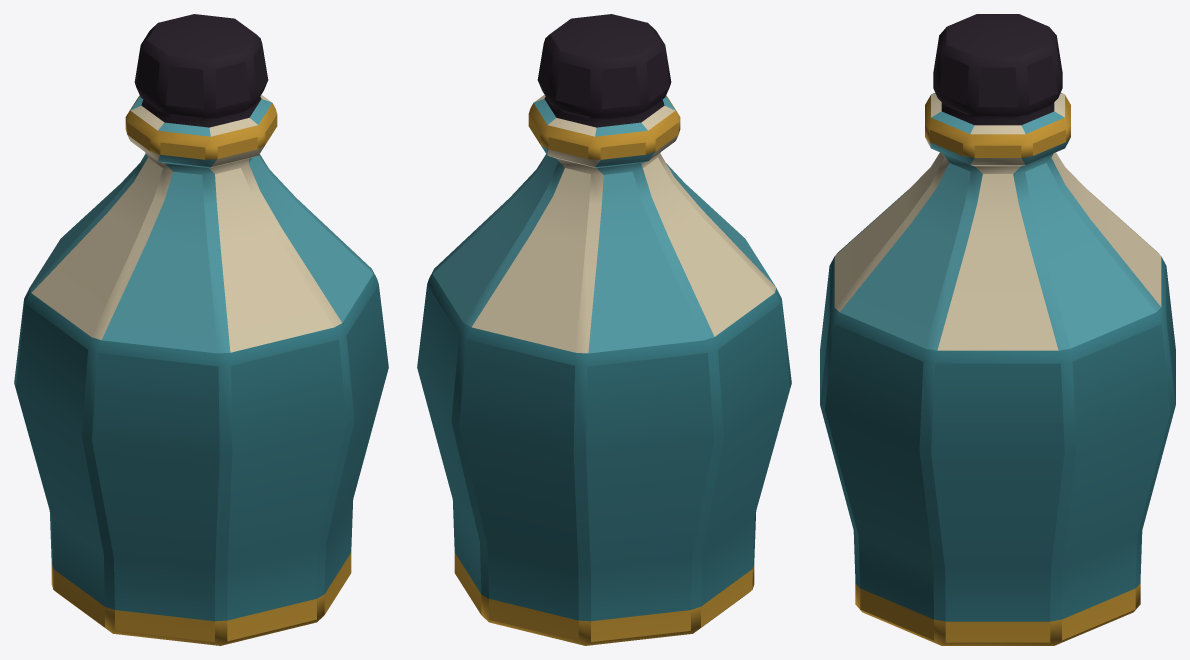
The model's file is Bottle_19.glb.
3 renders of one model, left to right at view 1: azimuth 30°, elevation 25°; view 2: azimuth 150°, elevation 25°; view 3: azimuth 270°, elevation 25°, orthographic.
Parts seen in each view (by area): view 1: Bottle_19; view 2: Bottle_19; view 3: Bottle_19.
Boxes of the visible parts, bbox=[...] form: Bottle_19: bbox=[14, 14, 388, 645]; Bottle_19: bbox=[417, 14, 791, 645]; Bottle_19: bbox=[820, 14, 1175, 645].
Size of the model in its own units: 1.3 by 2.27 by 1.3.
